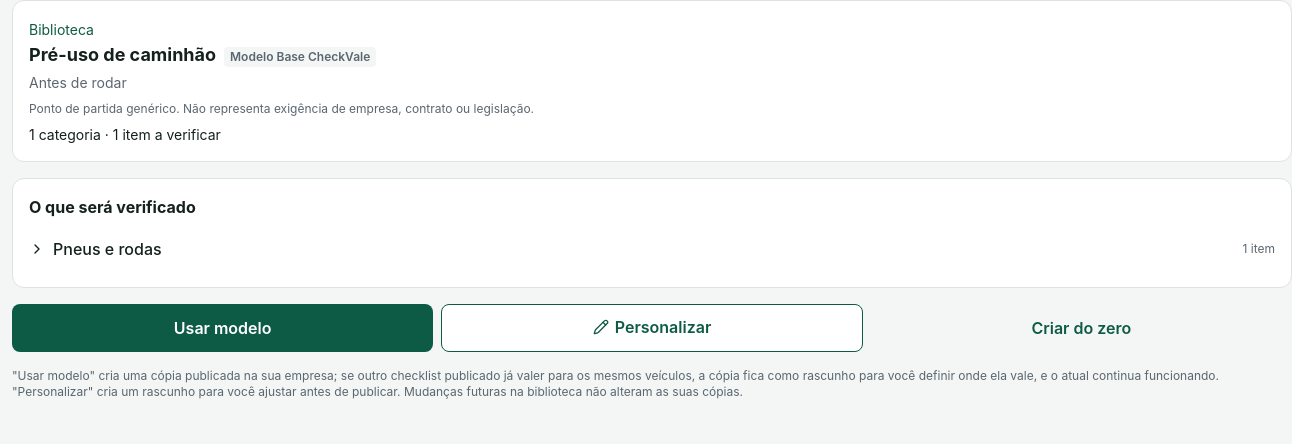
it: biblioteca de checklists › prévia mostra o selo e os itens; nunca "oficial"
Expected: the text "Modelo Base CheckVale" is shown, x1=224 y1=47 x2=376 y2=67
Click the button "Pneus e rodas 1 item".
click(107, 249)  # box x1=29 y1=227 x2=1275 y2=271
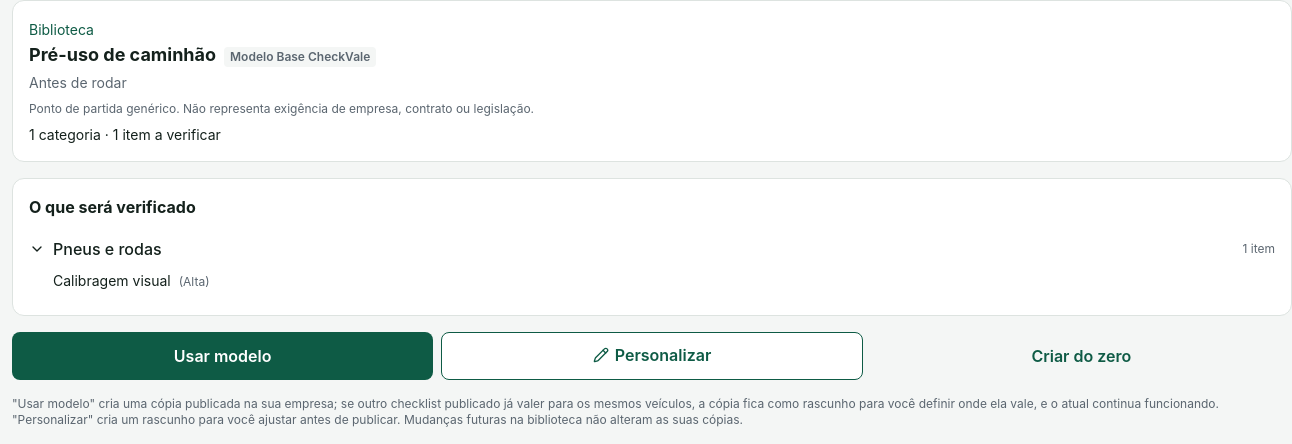
Result: the text "Calibragem visual" is shown at x1=53 y1=272 x2=171 y2=289
